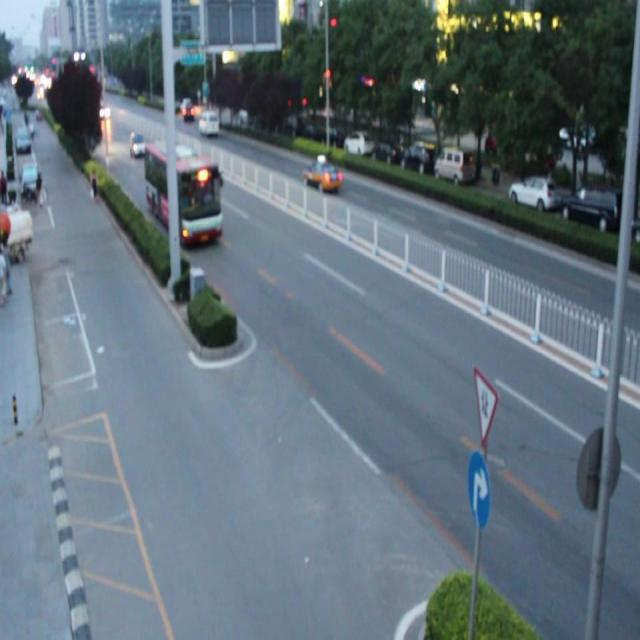car: (302, 156, 340, 191)
truck: (198, 109, 220, 135)
van: (146, 140, 221, 244)
